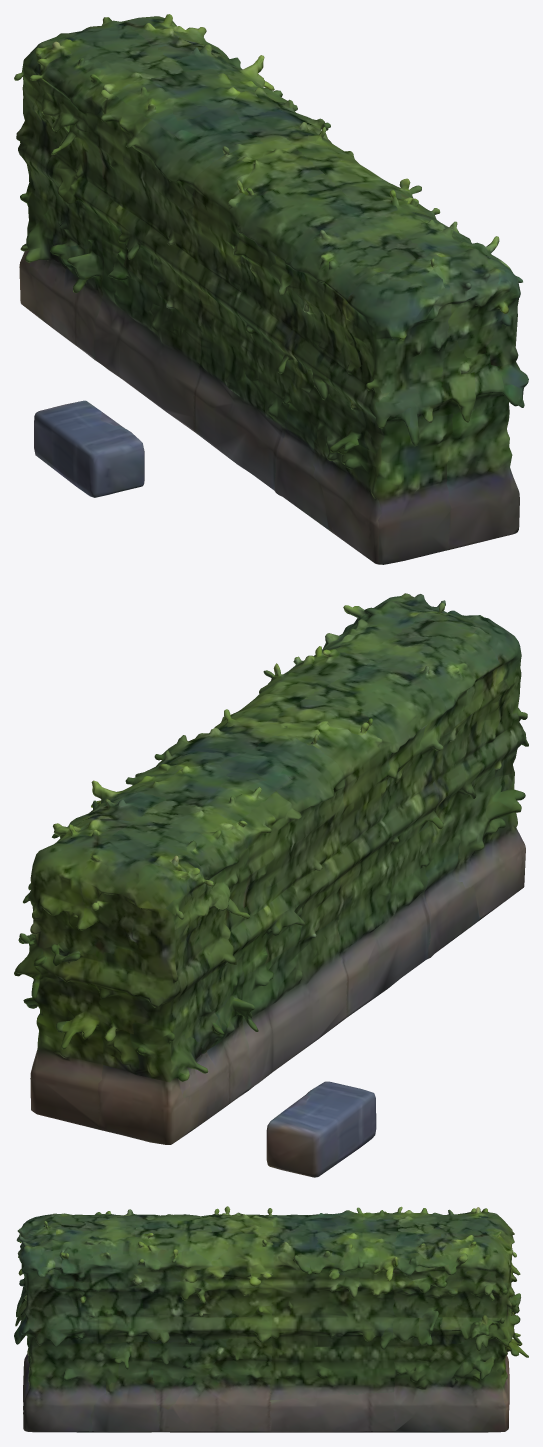
The model's file is garden_wall.glb.
3 views of the same model, one above another, from view 1: azimuth 30°, elevation 25°; view 2: azimuth 150°, elevation 25°; view 3: azimuth 270°, elevation 25° (orthographic). The views are drawn at different scales.
Parts seen in each view (by area): view 1: tripo_node_158d8d76-2c0c-4fbc-a0b0-01394c19adaf; view 2: tripo_node_158d8d76-2c0c-4fbc-a0b0-01394c19adaf; view 3: tripo_node_158d8d76-2c0c-4fbc-a0b0-01394c19adaf.
Part boxes in pixels (x1,y1,x2,y2): tripo_node_158d8d76-2c0c-4fbc-a0b0-01394c19adaf: [14, 14, 528, 564]; tripo_node_158d8d76-2c0c-4fbc-a0b0-01394c19adaf: [14, 593, 528, 1177]; tripo_node_158d8d76-2c0c-4fbc-a0b0-01394c19adaf: [14, 1206, 528, 1432].
Bounding box in the file's own units: 0.3359 × 0.4873 × 0.9449.
1 material, 1 textured.
